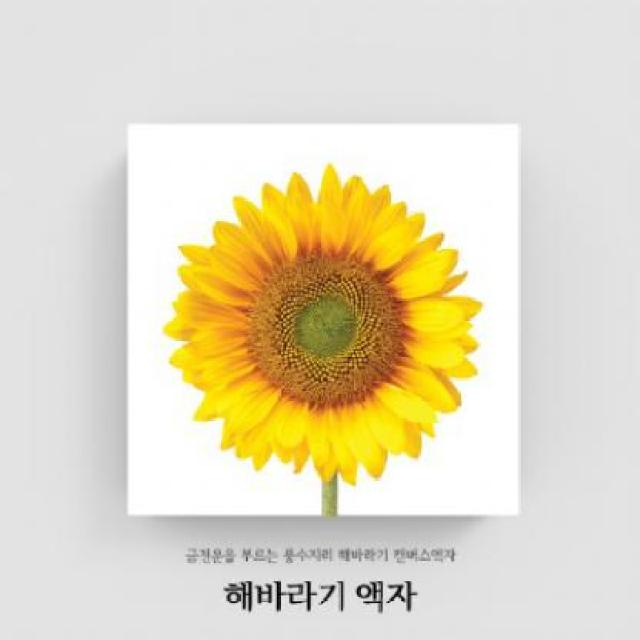sunflower: (146, 148, 494, 495)
